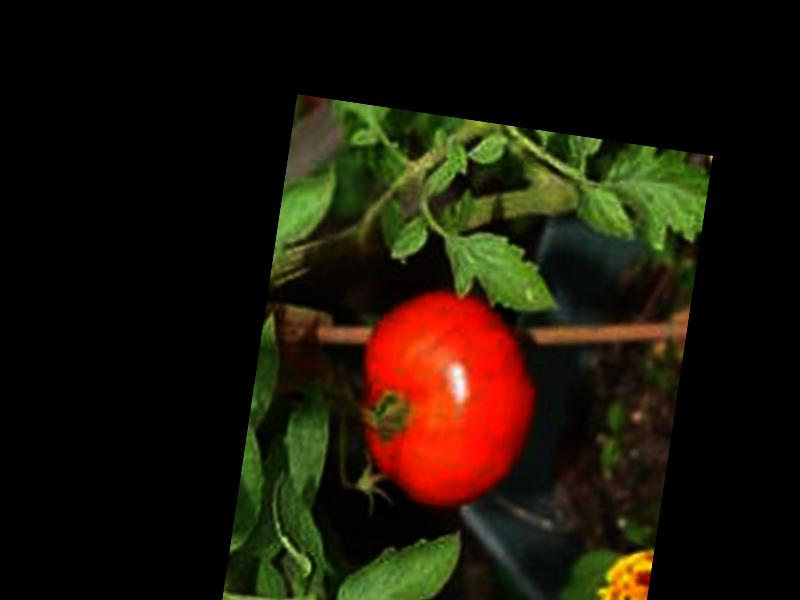Tomato: (341, 275, 548, 521)
